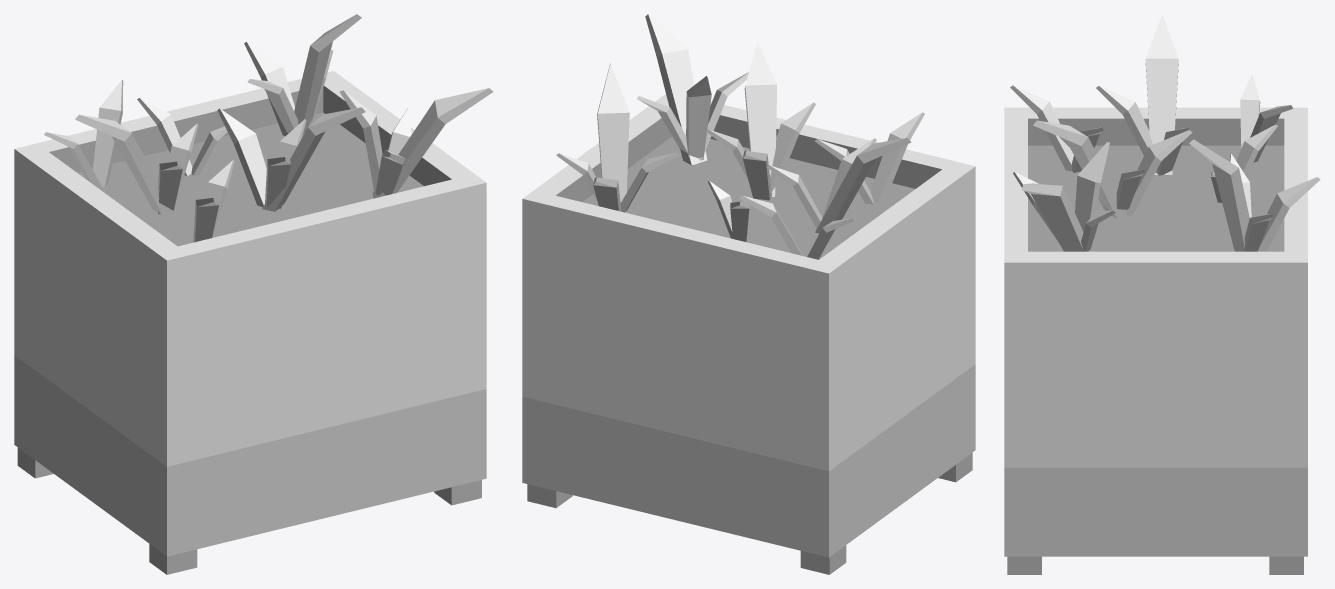
Rendered from dprop_plantPot.fbx.
3 renders of one model, left to right at view 1: azimuth 30°, elevation 25°; view 2: azimuth 150°, elevation 25°; view 3: azimuth 270°, elevation 25°, orthographic. The views are drawn at different scales.
Visible parts, largest first — view 1: plantPotA; view 2: plantPotA; view 3: plantPotA.
Boxes of the visible parts, left/top/right/bottom form: plantPotA: left=14, top=14, right=493, bottom=574; plantPotA: left=522, top=14, right=975, bottom=574; plantPotA: left=1004, top=14, right=1320, bottom=574.
Size of the model in its own units: 57.58 by 45.63 by 66.88.
